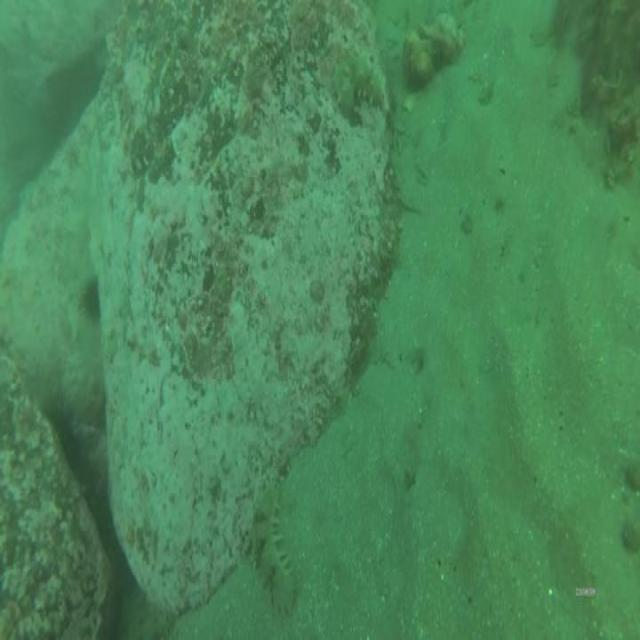holothurian: (252, 472, 298, 616), (332, 46, 388, 115)
